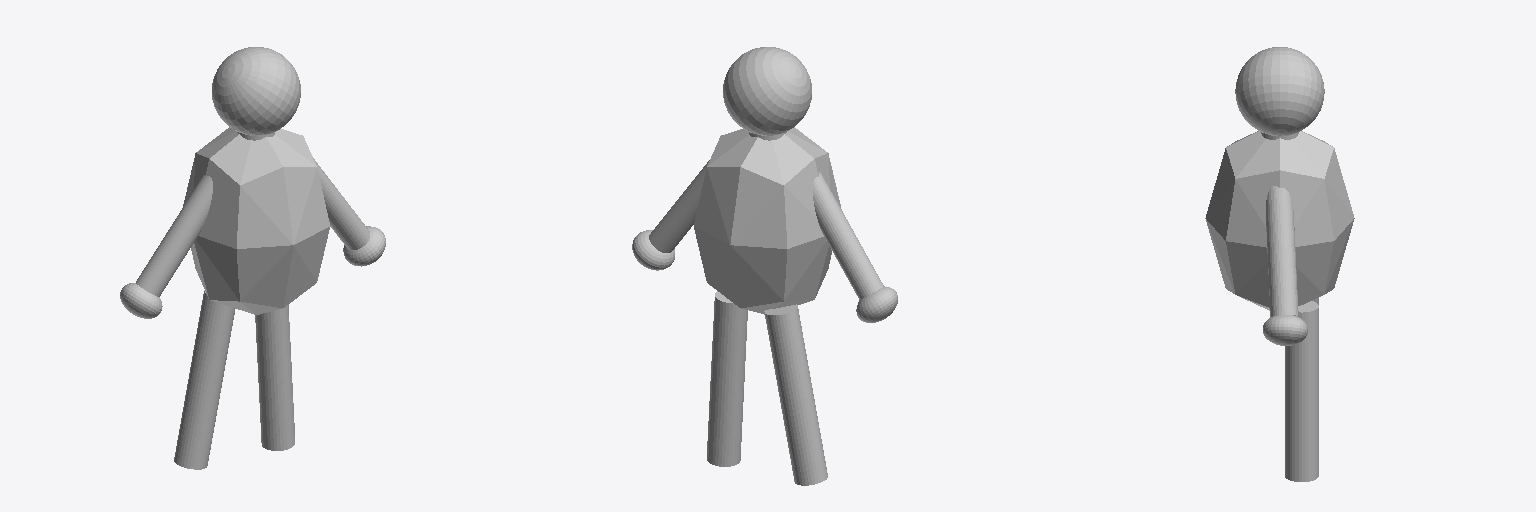
File: player_test.obj
3 views of the same model, side by side, from view 1: azimuth 30°, elevation 25°; view 2: azimuth 150°, elevation 25°; view 3: azimuth 270°, elevation 25° (orthographic).
Bounding box in the file's own units: 2.54 × 3.85 × 1.27.